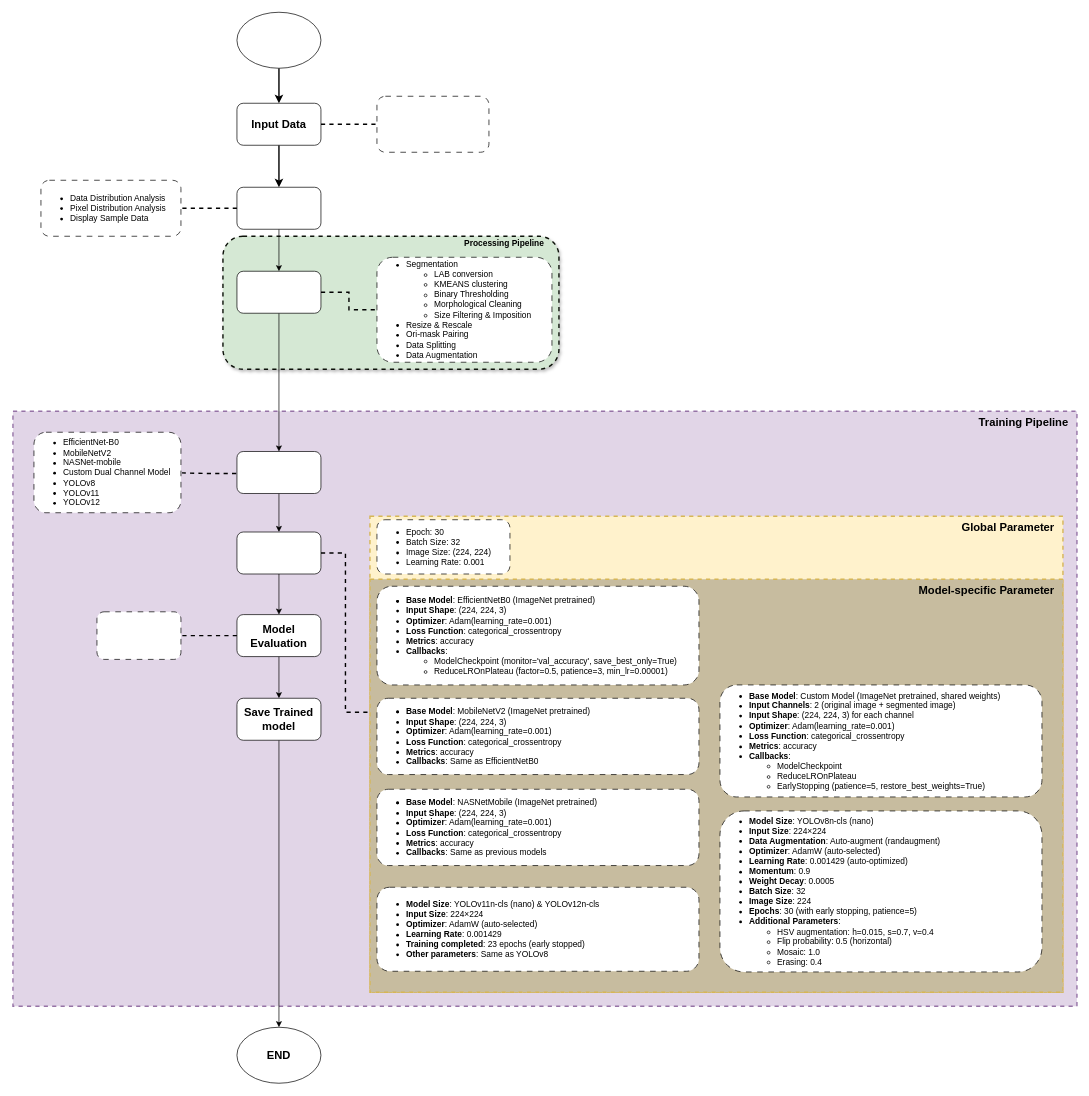
Some shapes in this 1089 by 1096 pixel diagram are drawn without their labels. The centre of each missing label's shape, as x and y in pixels:
"Accuracry Precision Recall F1-Score" goes at (x=138, y=635).
"Data Exploration" goes at (x=278, y=208).
"Data Processing" goes at (x=278, y=292).
"Model Architectures" goes at (x=278, y=472).
"Model Training" goes at (x=278, y=552).
"Source: Kaggle Classes: 3" goes at (x=432, y=124).
"START" goes at (x=278, y=40).
